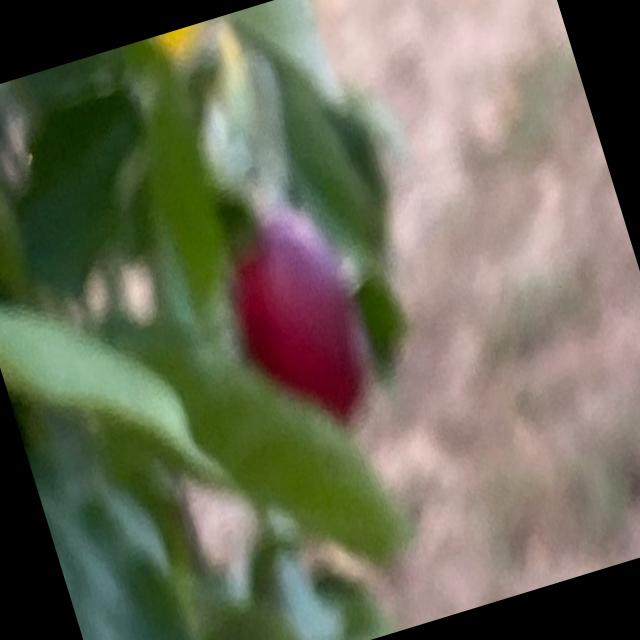Apples: (208, 210, 386, 446)
